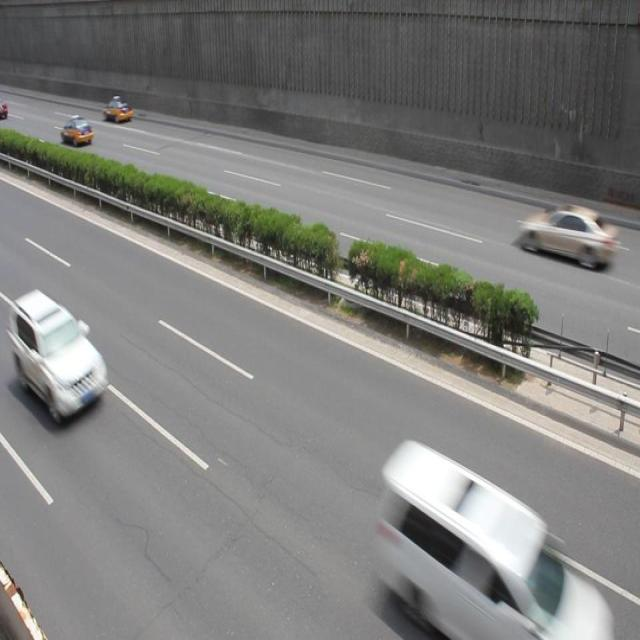car: (11, 288, 111, 423), (518, 202, 620, 269), (61, 114, 92, 146), (103, 95, 131, 123)
truck: (381, 441, 587, 634)
